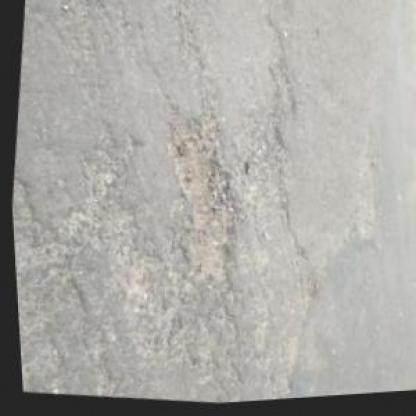pothole: (142, 117, 250, 298), (234, 124, 296, 214)
